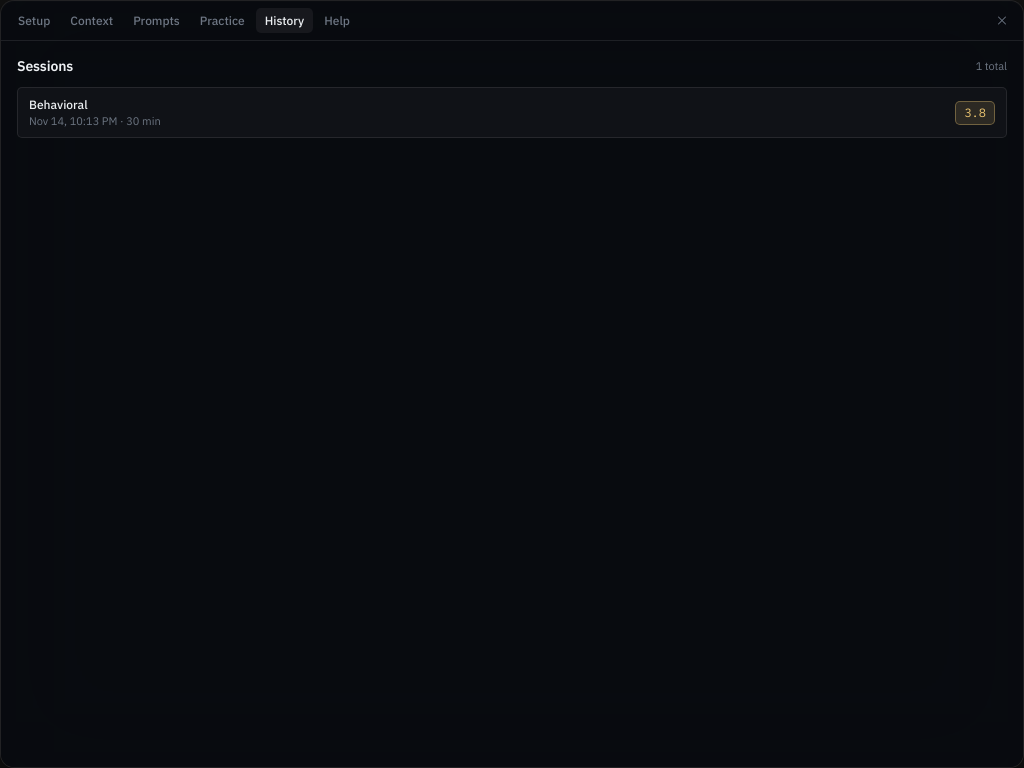
it: History tab › shows grader error when grading failed for the session
Click the button with class "session-row" at (58, 104), box [17, 87, 1007, 138]
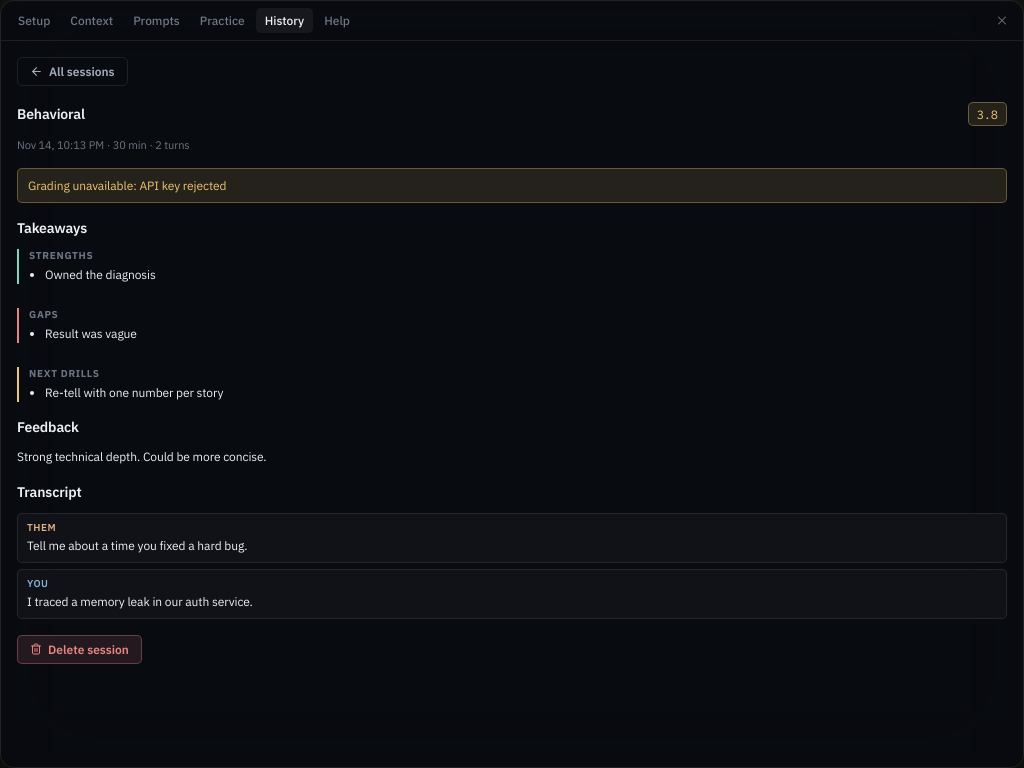
Expected: the text "Grading unavailable: API key rejected" is shown, [17, 168, 1007, 203]
